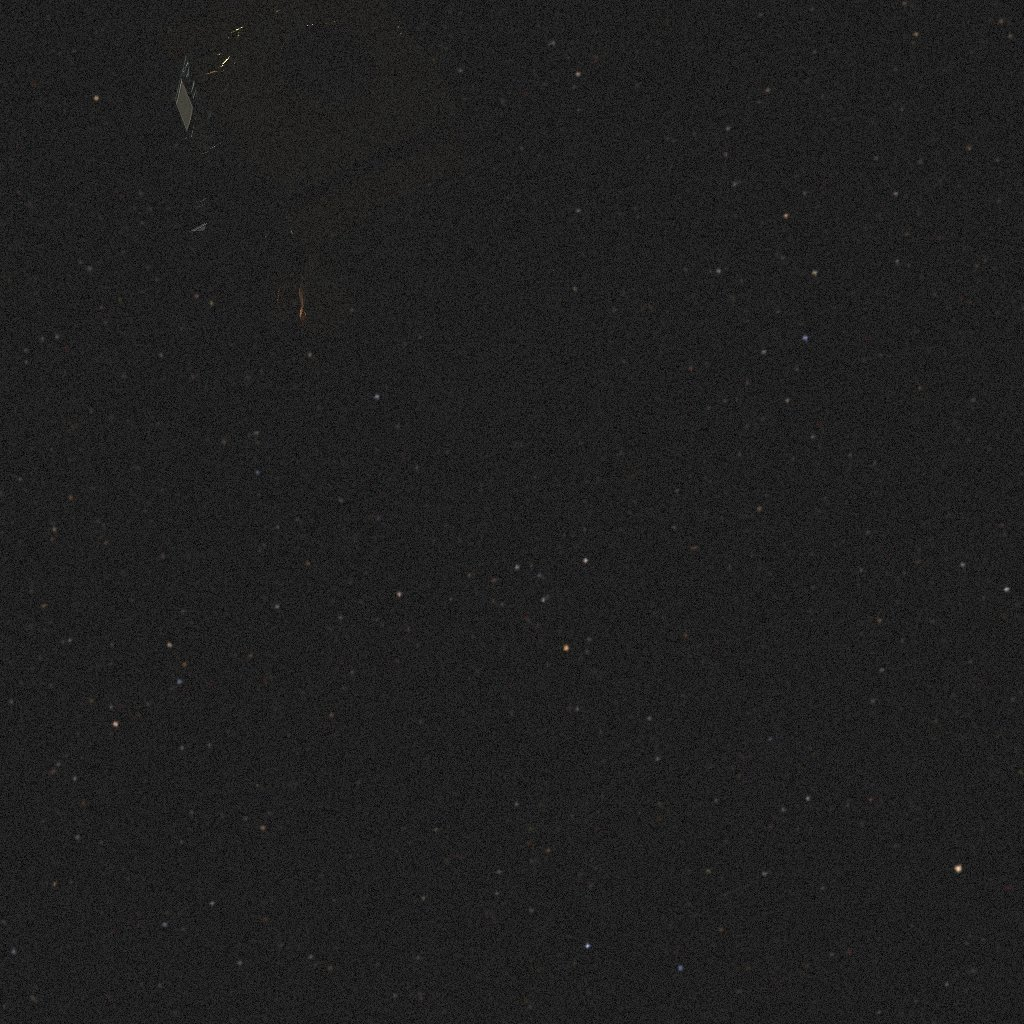soho: (131, 0, 630, 458)
